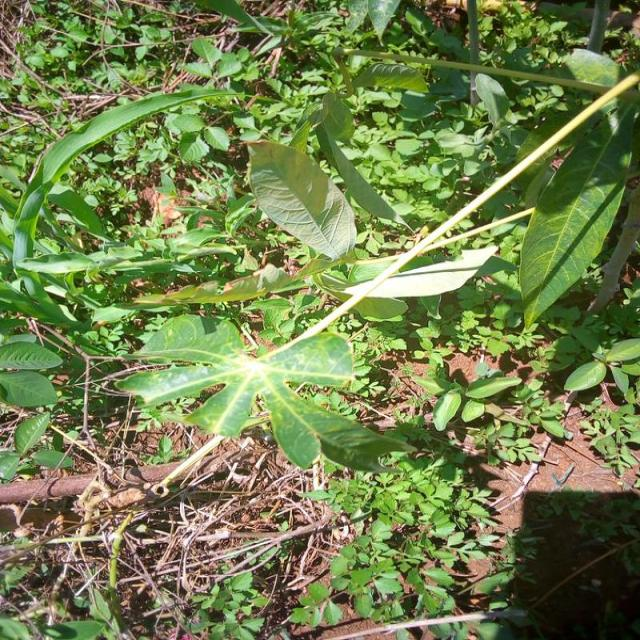cassava leaf: (518, 93, 634, 332), (246, 138, 356, 261)
